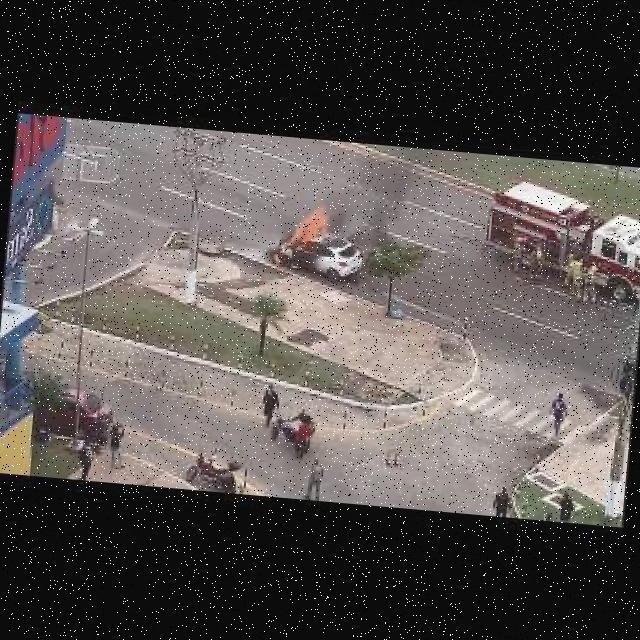Fire: (287, 203, 332, 247), (273, 254, 284, 265)
Smoke: (329, 149, 424, 253)
